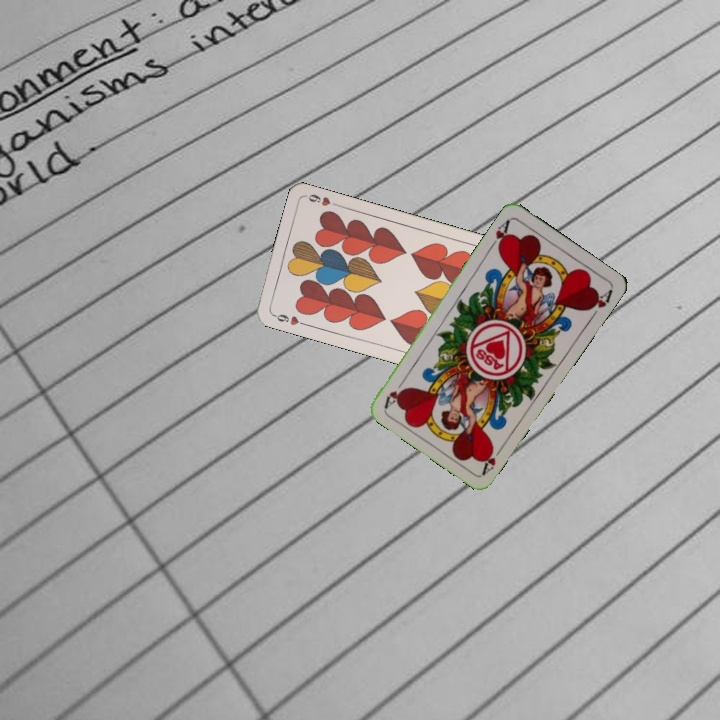H9: (269, 310, 308, 328)
HA: (485, 215, 513, 254), (478, 441, 507, 477)
